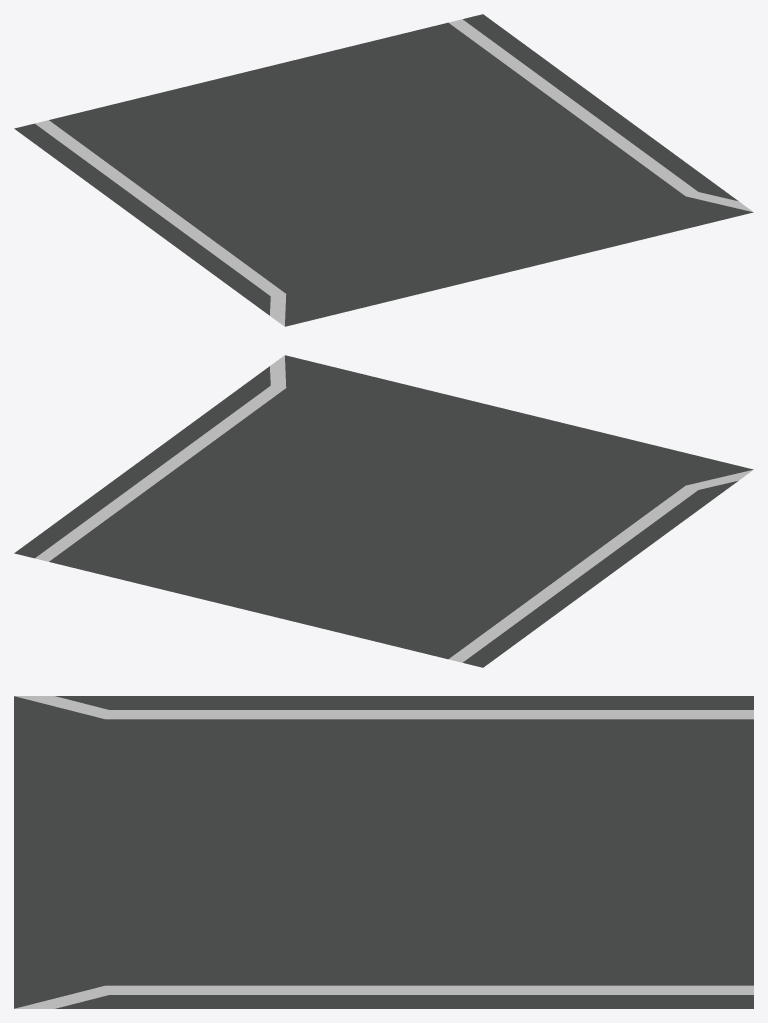
File: smallStreet_4.fbx
The picture shows the model from 3 angles, top to bottom: view 1: azimuth 30°, elevation 25°; view 2: azimuth 150°, elevation 25°; view 3: azimuth 270°, elevation 25°; orthographic projection. The views are drawn at different scales.
Parts seen in each view (by area): view 1: smallStreet_4; view 2: smallStreet_4; view 3: smallStreet_4.
Part boxes in pixels (box(x1,y1,x2,y2)): smallStreet_4: box(14, 14, 753, 326); smallStreet_4: box(14, 355, 753, 667); smallStreet_4: box(14, 696, 753, 1008).
Bounding box in the file's own units: 375 × 0 × 375.
